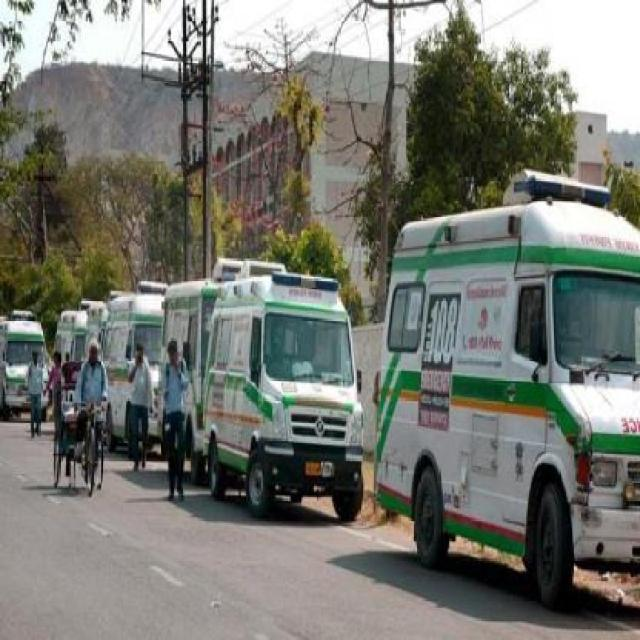Ambulance: (0, 167, 638, 615), (0, 392, 638, 638), (368, 170, 638, 612), (155, 256, 368, 524)
